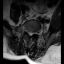CCS_stenosis: (29, 28, 31, 37)
LFS_stenosis: (33, 29, 35, 35)
LLS_normal: (31, 30, 33, 36)
RFS_stenosis: (25, 26, 27, 34)
RLS_normal: (27, 28, 29, 36)
